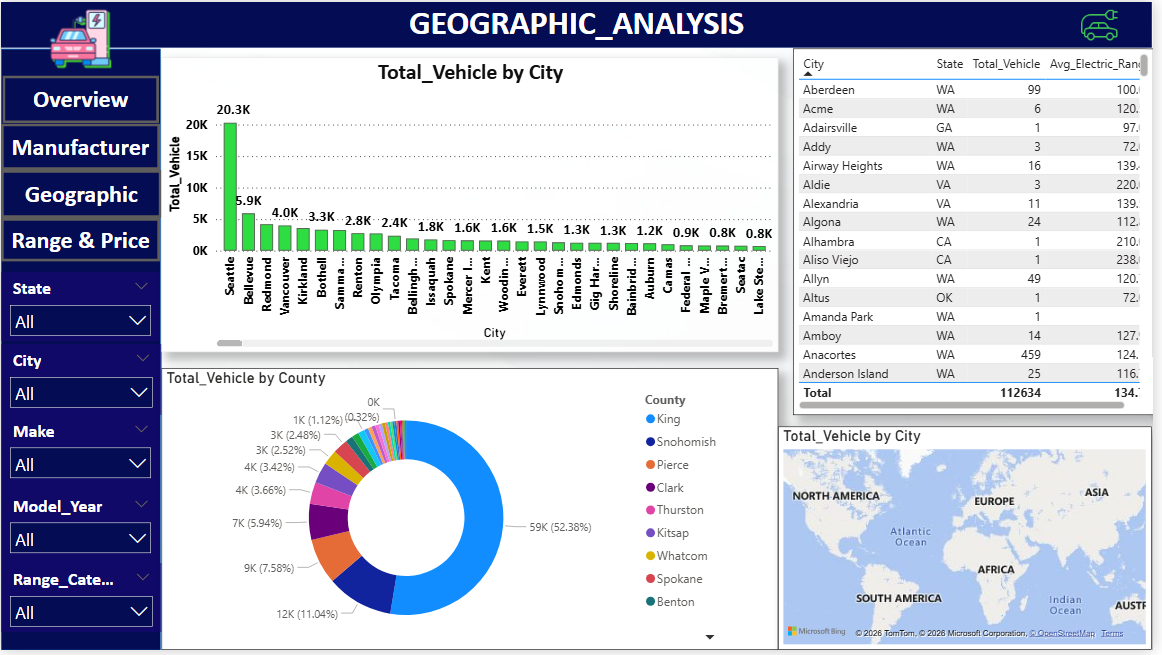

This screenshot's page, from the dashboard's own definition file:
{"tool":"powerbi","page":{"name":"Geographic","canvas":[1280,720],"ordinal":2},"visuals":[{"type":"shape","title":"GEOGRAPHIC_ANALYSIS","box":[0,0,1278.9,50.9],"z":0},{"type":"shape","box":[0,51,177.6,669],"z":1000},{"type":"actionButton","box":[0,186.7,178.3,53.3],"z":2000},{"type":"actionButton","box":[1.9,81.3,173.9,52.9],"z":3000},{"type":"actionButton","box":[0,240,176.7,48.3],"z":4000},{"type":"actionButton","box":[0,135,176.7,51.7],"z":5000},{"type":"slicer","fields":{"Values":["Electric_Vehicle.Make"]},"box":[0,458.3,176.7,83.3],"z":6000},{"type":"slicer","fields":{"Values":["Electric_Vehicle.Model_Year"]},"box":[0,541.7,176.7,81.7],"z":7000},{"type":"slicer","fields":{"Values":["Electric_Vehicle.City"]},"box":[0,380,178.3,78.3],"z":8000},{"type":"slicer","fields":{"Values":["Electric_Vehicle.State"]},"box":[0,300,176.7,76.7],"z":9000},{"type":"slicer","fields":{"Values":["Electric_Vehicle.Range_Category"]},"box":[0,623.3,178.3,76.7],"z":10000},{"type":"tableEx","fields":{"Values":["Electric_Vehicle.City","Electric_Vehicle.State","NEW_MEASURES.Total_Vehicle","NEW_MEASURES.Avg_Electric_Range"]},"box":[879.6,50.9,400.8,407.2],"z":11000},{"type":"clusteredColumnChart","fields":{"Category":["Electric_Vehicle.City"],"Y":["NEW_MEASURES.Total_Vehicle"]},"box":[178.1,62,685.6,327.7],"z":12000},{"type":"donutChart","fields":{"Category":["Electric_Vehicle.County"],"Y":["NEW_MEASURES.Total_Vehicle"]},"box":[178.1,407.2,685.6,313.4],"z":13000},{"type":"filledMap","fields":{"Category":["Electric_Vehicle.City"]},"box":[863.7,472.4,415.1,248.1],"z":14000},{"type":"image","box":[1.6,0,173.4,81.1],"z":14001},{"type":"image","box":[1159.6,0,120.9,50.9],"z":14002}]}

Visuals, with their boxes in screenshot pixels (x1, y1, x2, y2), scaled from the page's 1280x720 canvas onto the 1162x655 screenshot:
"GEOGRAPHIC_ANALYSIS" shape: (x1=0, y1=0, x2=1161, y2=46)
shape: (x1=0, y1=46, x2=161, y2=654)
actionButton: (x1=0, y1=170, x2=162, y2=218)
actionButton: (x1=2, y1=74, x2=160, y2=122)
actionButton: (x1=0, y1=218, x2=160, y2=262)
actionButton: (x1=0, y1=123, x2=160, y2=170)
slicer - Electric_Vehicle.Make: (x1=0, y1=417, x2=160, y2=493)
slicer - Electric_Vehicle.Model_Year: (x1=0, y1=493, x2=160, y2=567)
slicer - Electric_Vehicle.City: (x1=0, y1=346, x2=162, y2=417)
slicer - Electric_Vehicle.State: (x1=0, y1=273, x2=160, y2=343)
slicer - Electric_Vehicle.Range_Category: (x1=0, y1=567, x2=162, y2=637)
tableEx - Electric_Vehicle.City x Electric_Vehicle.State: (x1=799, y1=46, x2=1161, y2=417)
clusteredColumnChart - Electric_Vehicle.City x NEW_MEASURES.Total_Vehicle: (x1=162, y1=56, x2=784, y2=355)
donutChart - Electric_Vehicle.County x NEW_MEASURES.Total_Vehicle: (x1=162, y1=370, x2=784, y2=654)
filledMap - Electric_Vehicle.City: (x1=784, y1=430, x2=1161, y2=654)
image: (x1=1, y1=0, x2=159, y2=74)
image: (x1=1053, y1=0, x2=1161, y2=46)
